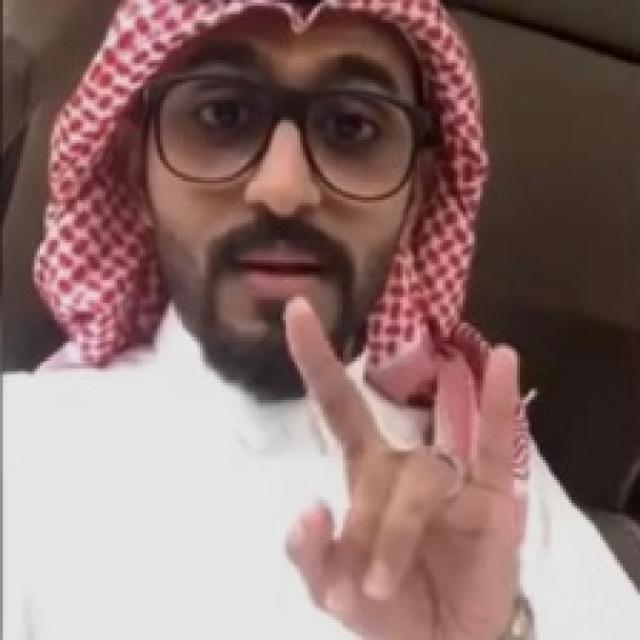No: (274, 291, 523, 640)
